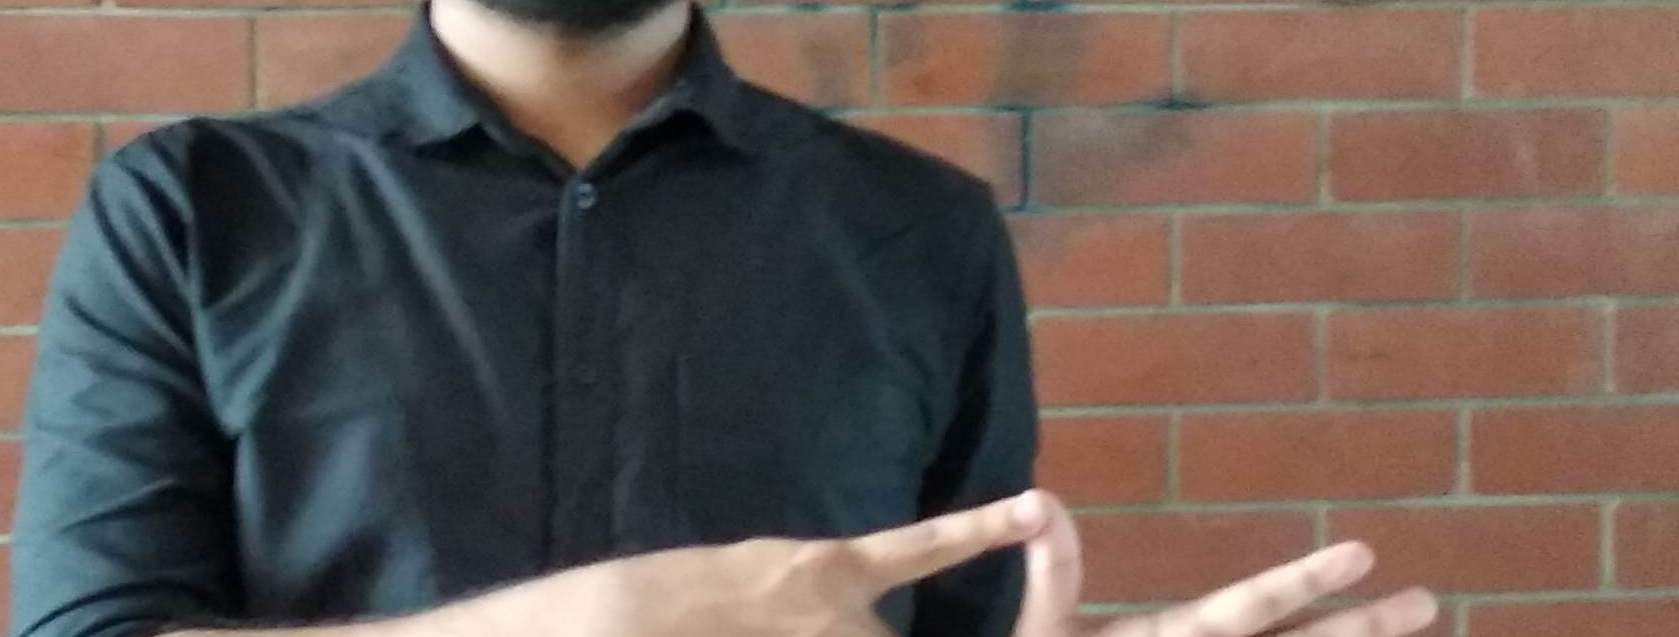a: (661, 445, 1441, 637)
